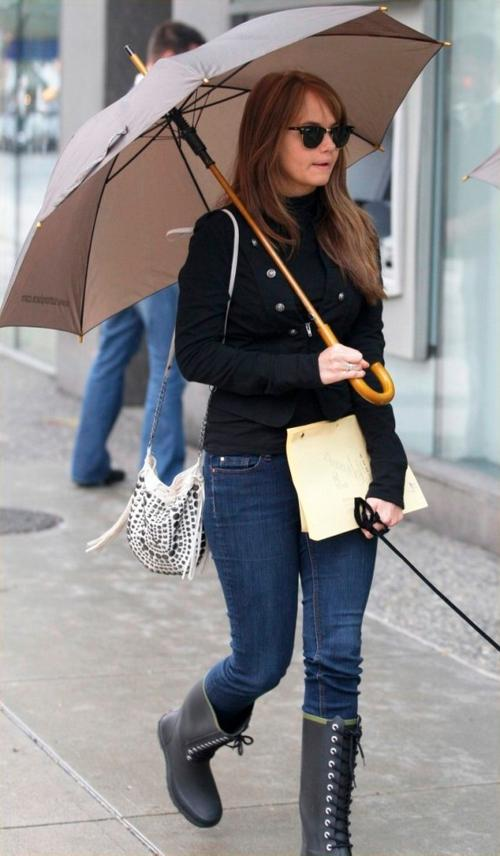person: (158, 69, 408, 855)
